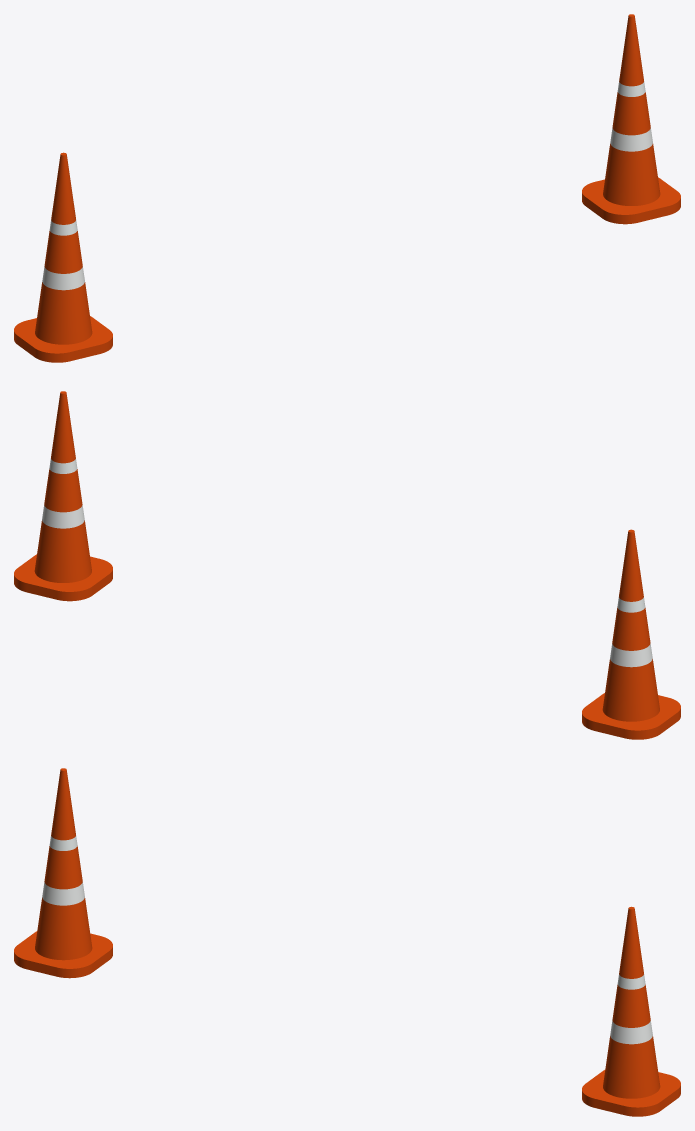
File: Conos 3m.fbx
3 views of the same model, one above another, from view 1: azimuth 30°, elevation 25°; view 2: azimuth 150°, elevation 25°; view 3: azimuth 330°, elevation 25° (orthographic).
Visible parts, largest first — view 1: Plane.005; view 2: Plane.005; view 3: Plane.005.
Part boxes in pixels (box(x1,y1,x2,y2)): Plane.005: box(14, 14, 680, 362); Plane.005: box(14, 391, 680, 739); Plane.005: box(14, 768, 680, 1116).
Bounding box in the file's own units: 340 × 94.76 × 39.55.
2 materials, 2 textured.
